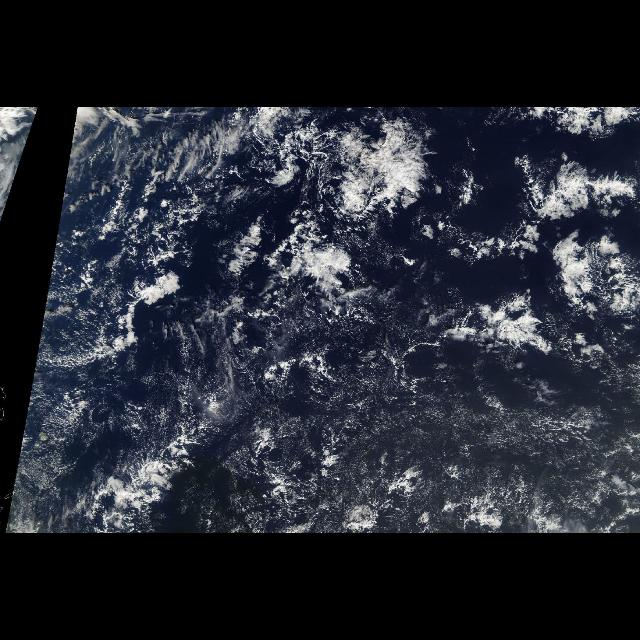Gravel: (250, 351, 636, 521)
Sugar: (334, 364, 640, 511), (5, 374, 119, 528)
